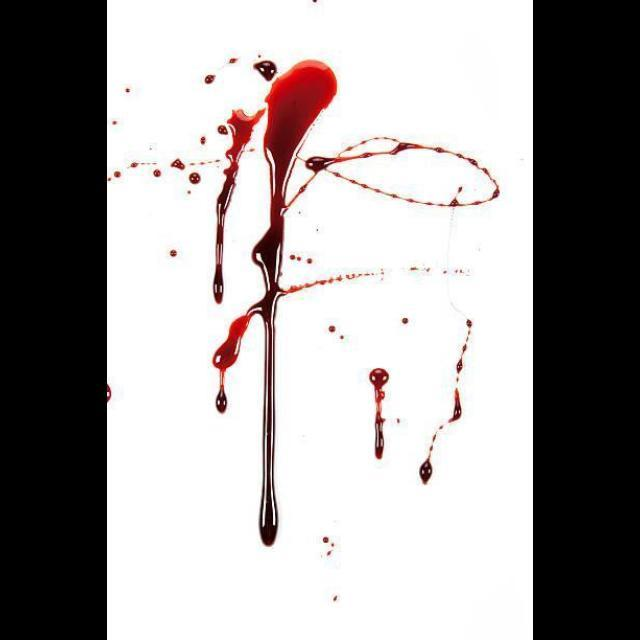blood: (213, 60, 337, 546), (289, 136, 501, 209), (107, 122, 222, 223), (213, 109, 264, 304), (420, 319, 474, 486), (283, 268, 473, 296), (202, 53, 284, 99), (369, 369, 390, 460), (327, 320, 350, 344), (403, 318, 410, 326)
